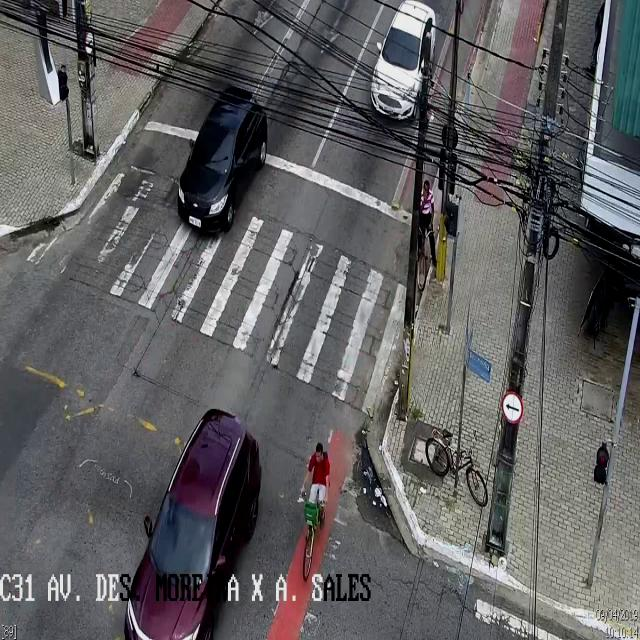Car: (122, 411, 262, 639), (176, 87, 268, 234), (368, 1, 441, 119)
